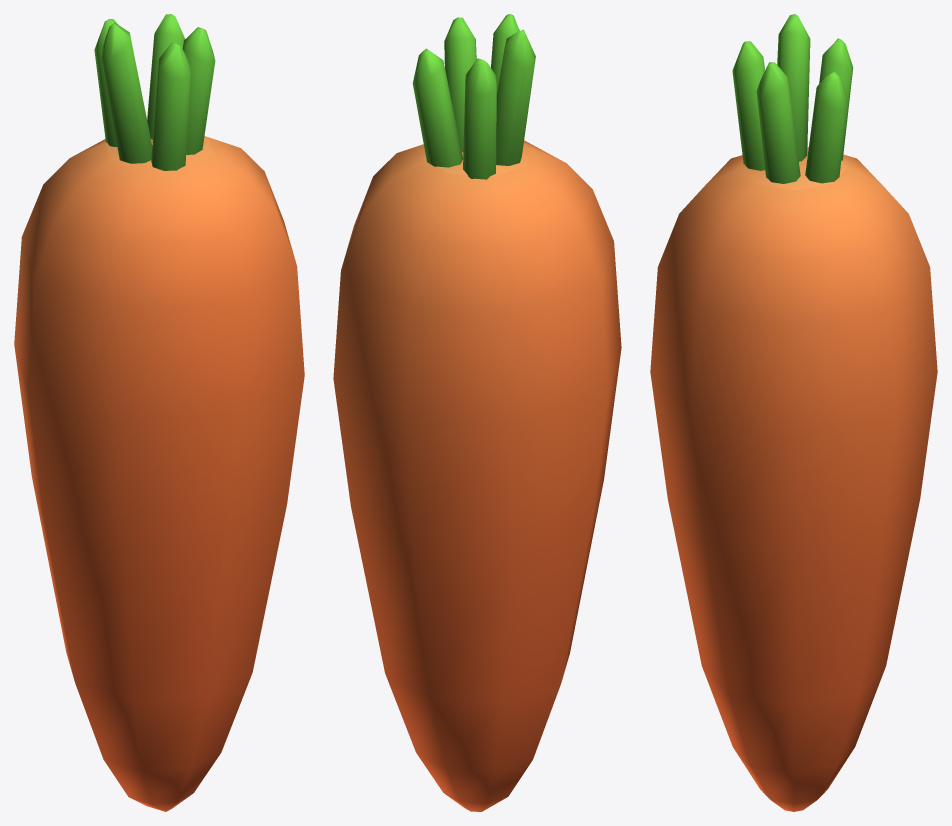
The model's file is FOD0110005.fbx.
3 renders of one model, left to right at view 1: azimuth 30°, elevation 25°; view 2: azimuth 150°, elevation 25°; view 3: azimuth 270°, elevation 25°, orthographic. The views are drawn at different scales.
Parts seen in each view (by area): view 1: smFOD0110005; view 2: smFOD0110005; view 3: smFOD0110005.
Boxes of the visible parts, x1,y1,x2,y2 form: smFOD0110005: [14, 14, 304, 811]; smFOD0110005: [333, 14, 621, 811]; smFOD0110005: [650, 14, 937, 811].
Bounding box in the file's own units: 7.33 × 21.16 × 7.15.
1 material, 1 textured.
